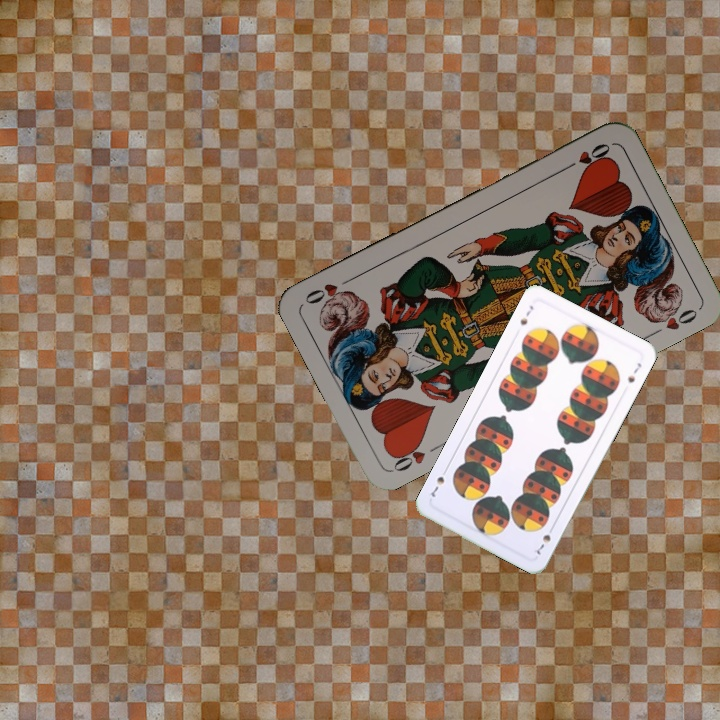HO: (387, 435, 443, 475), (559, 139, 613, 174)
S7: (532, 521, 557, 558), (516, 301, 536, 328)
